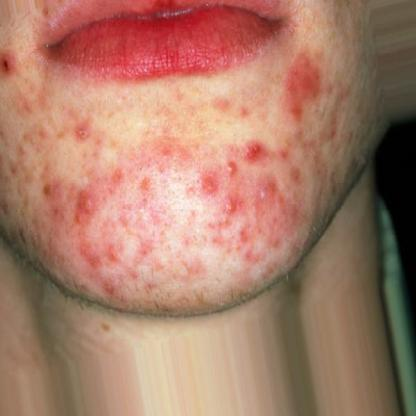Acne: (200, 158, 247, 213), (65, 188, 92, 245), (286, 60, 318, 103), (243, 138, 263, 164)
